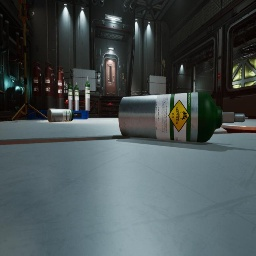0: (118, 92, 248, 143), (47, 108, 78, 122), (85, 76, 90, 111), (68, 79, 73, 111), (74, 80, 79, 111), (45, 114, 45, 115)
EmergencyPhone ,: (122, 72, 124, 79)
FireAlarm ,: (218, 73, 220, 79), (125, 79, 126, 83)
FirstAidBox ,: (118, 112, 118, 118)
NitrogenTank ,: (32, 62, 42, 110), (44, 62, 53, 110), (57, 66, 64, 109), (52, 69, 55, 109), (100, 94, 102, 95)
SafetySwitchPanel ,: (96, 73, 101, 88)
